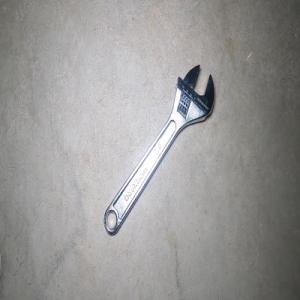Wrench: (103, 64, 214, 234)
